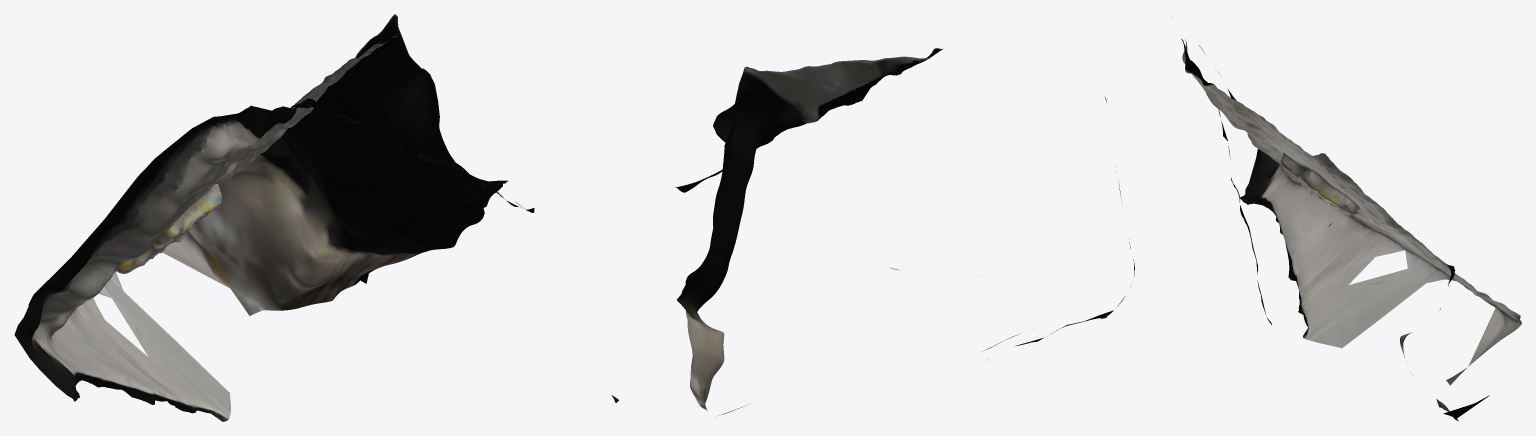
3 renders of one model, left to right at view 1: azimuth 30°, elevation 25°; view 2: azimuth 150°, elevation 25°; view 3: azimuth 270°, elevation 25°, orthographic. The views are drawn at different scales.
Size of the model in its own units: 0.7073 by 0.5174 by 0.5904.
Materials: 1 (1 with a texture image).
